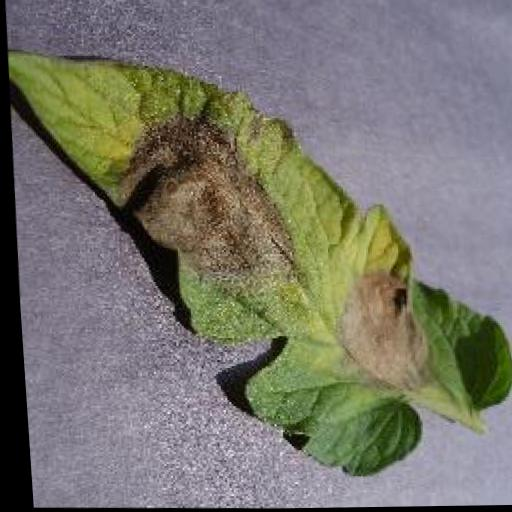Late Blight: (3, 42, 512, 484)
